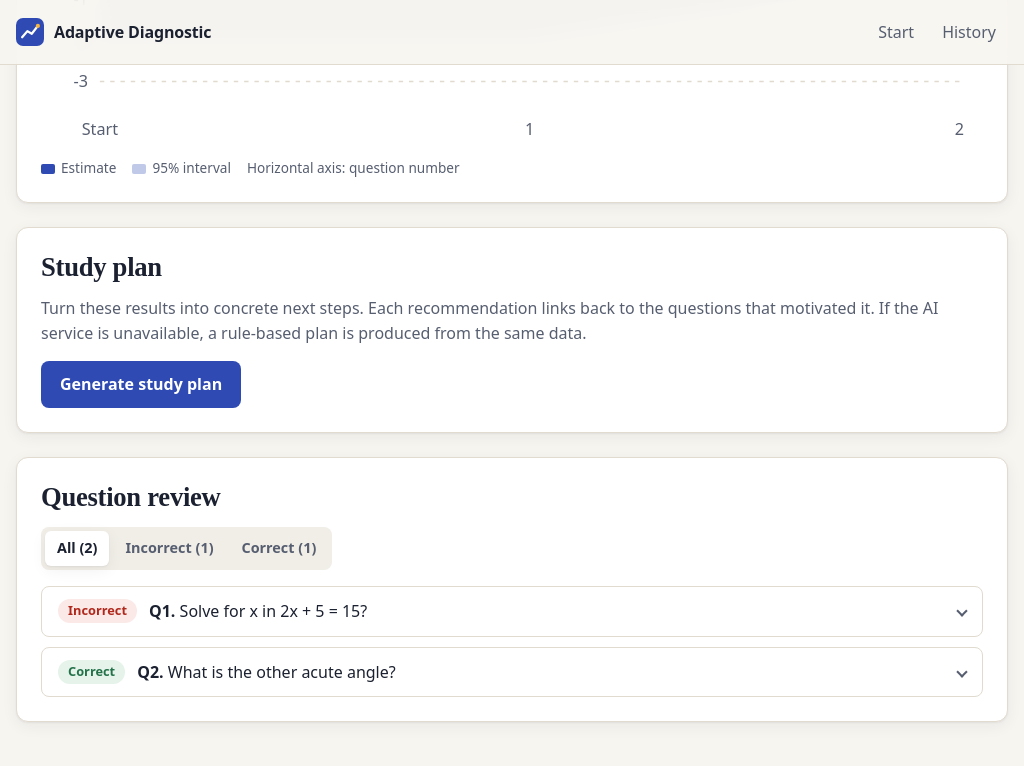
Test: results page › generates a study plan once, links evidence, and labels its source
The image size is (1024, 766).
(page scrolled)
Step 1. Click the button "Generate study plan" → [141, 385], box top-left (41, 361), bottom-right (241, 408)
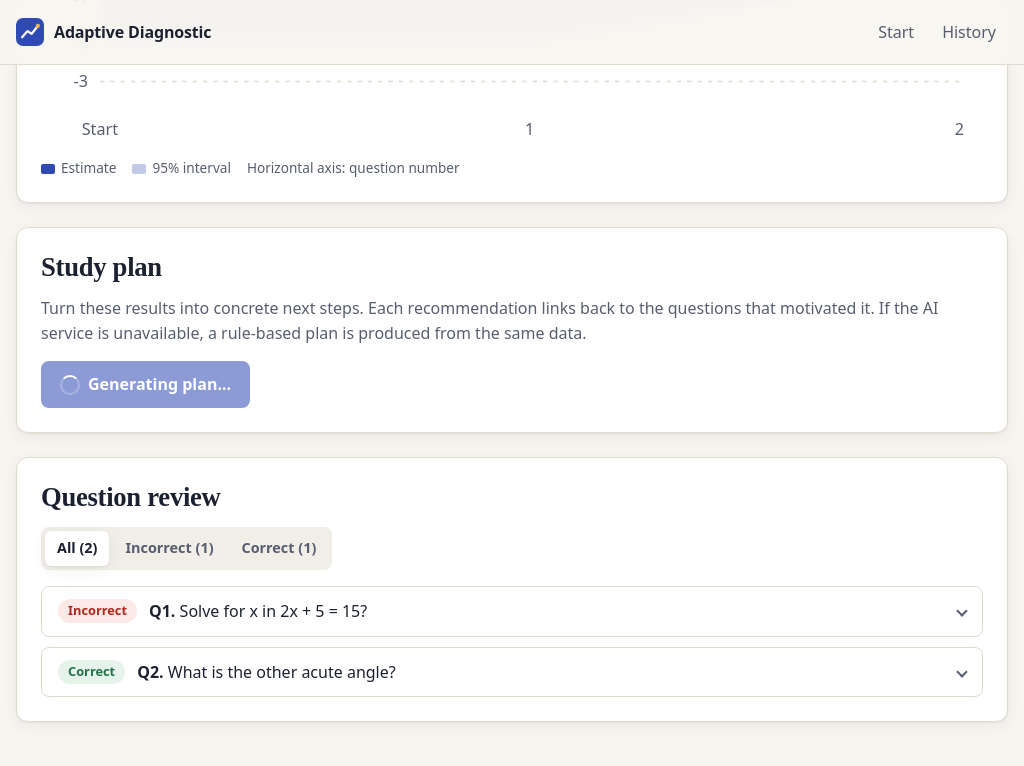
Step 2. Click the button "Generating plan..." → [146, 385], box top-left (41, 361), bottom-right (250, 408)
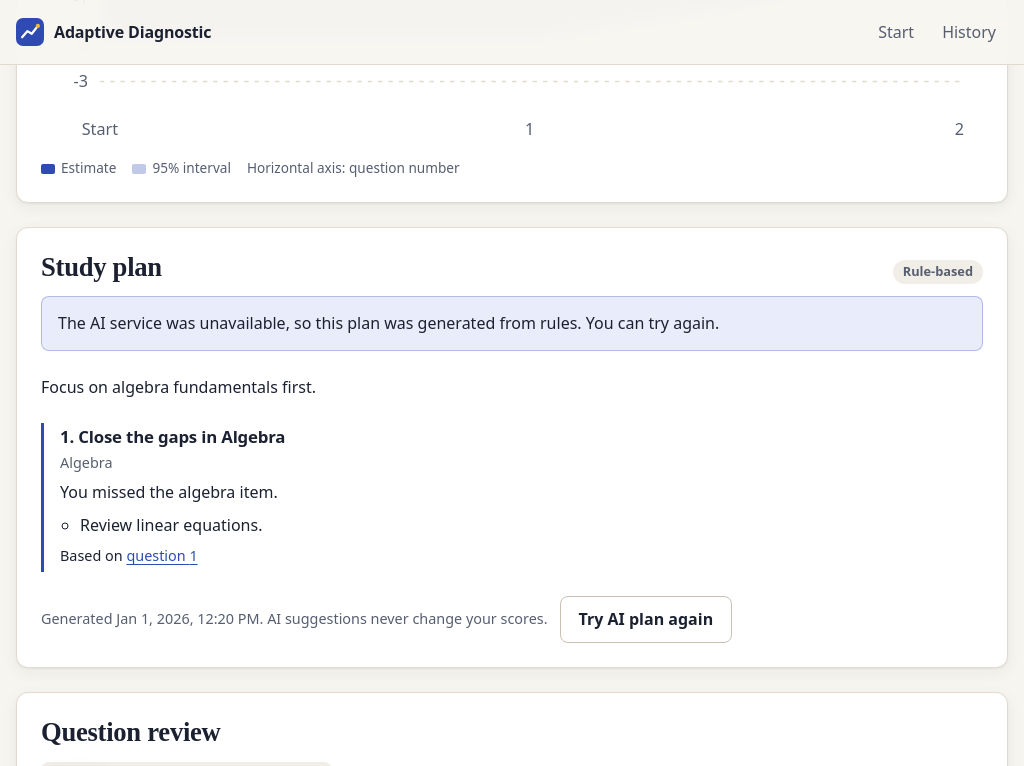
Expected: the text "Rule-based" is shown, top-left (893, 260), bottom-right (983, 284)
Now the button "Try AI plan again" is shown, box top-left (560, 596), bottom-right (732, 643)
